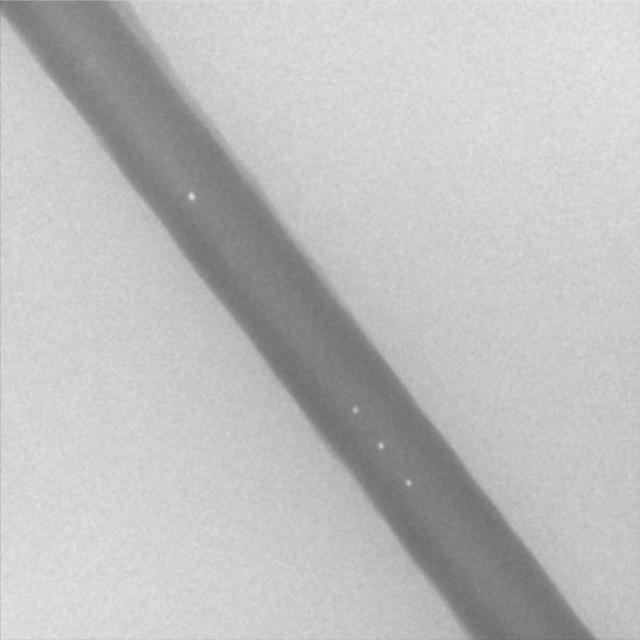air hole: (185, 190, 195, 201), (376, 441, 385, 451), (350, 404, 358, 415), (404, 478, 412, 488)
